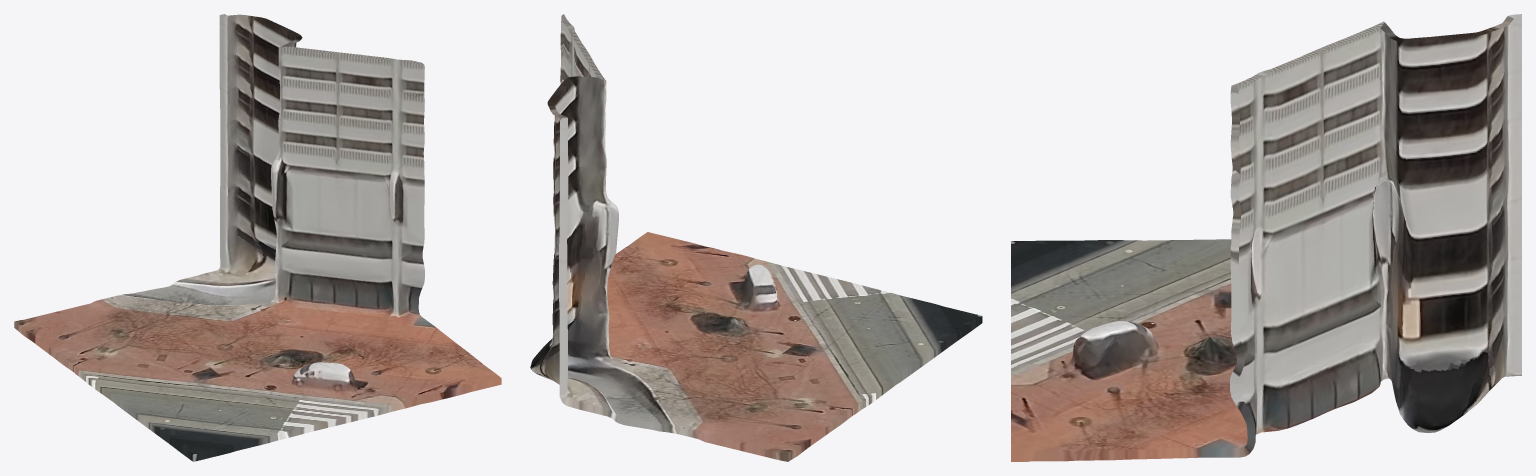
File: z20-167784-405226-h0-yup-uvflip-v3-world.glb
3 renders of one model, left to right at view 1: azimuth 30°, elevation 25°; view 2: azimuth 150°, elevation 25°; view 3: azimuth 270°, elevation 25°, orthographic. The views are drawn at different scales.
Bounding box in the file's own units: 30.16 × 25.32 × 30.32.
Materials: 1 (1 with a texture image).
